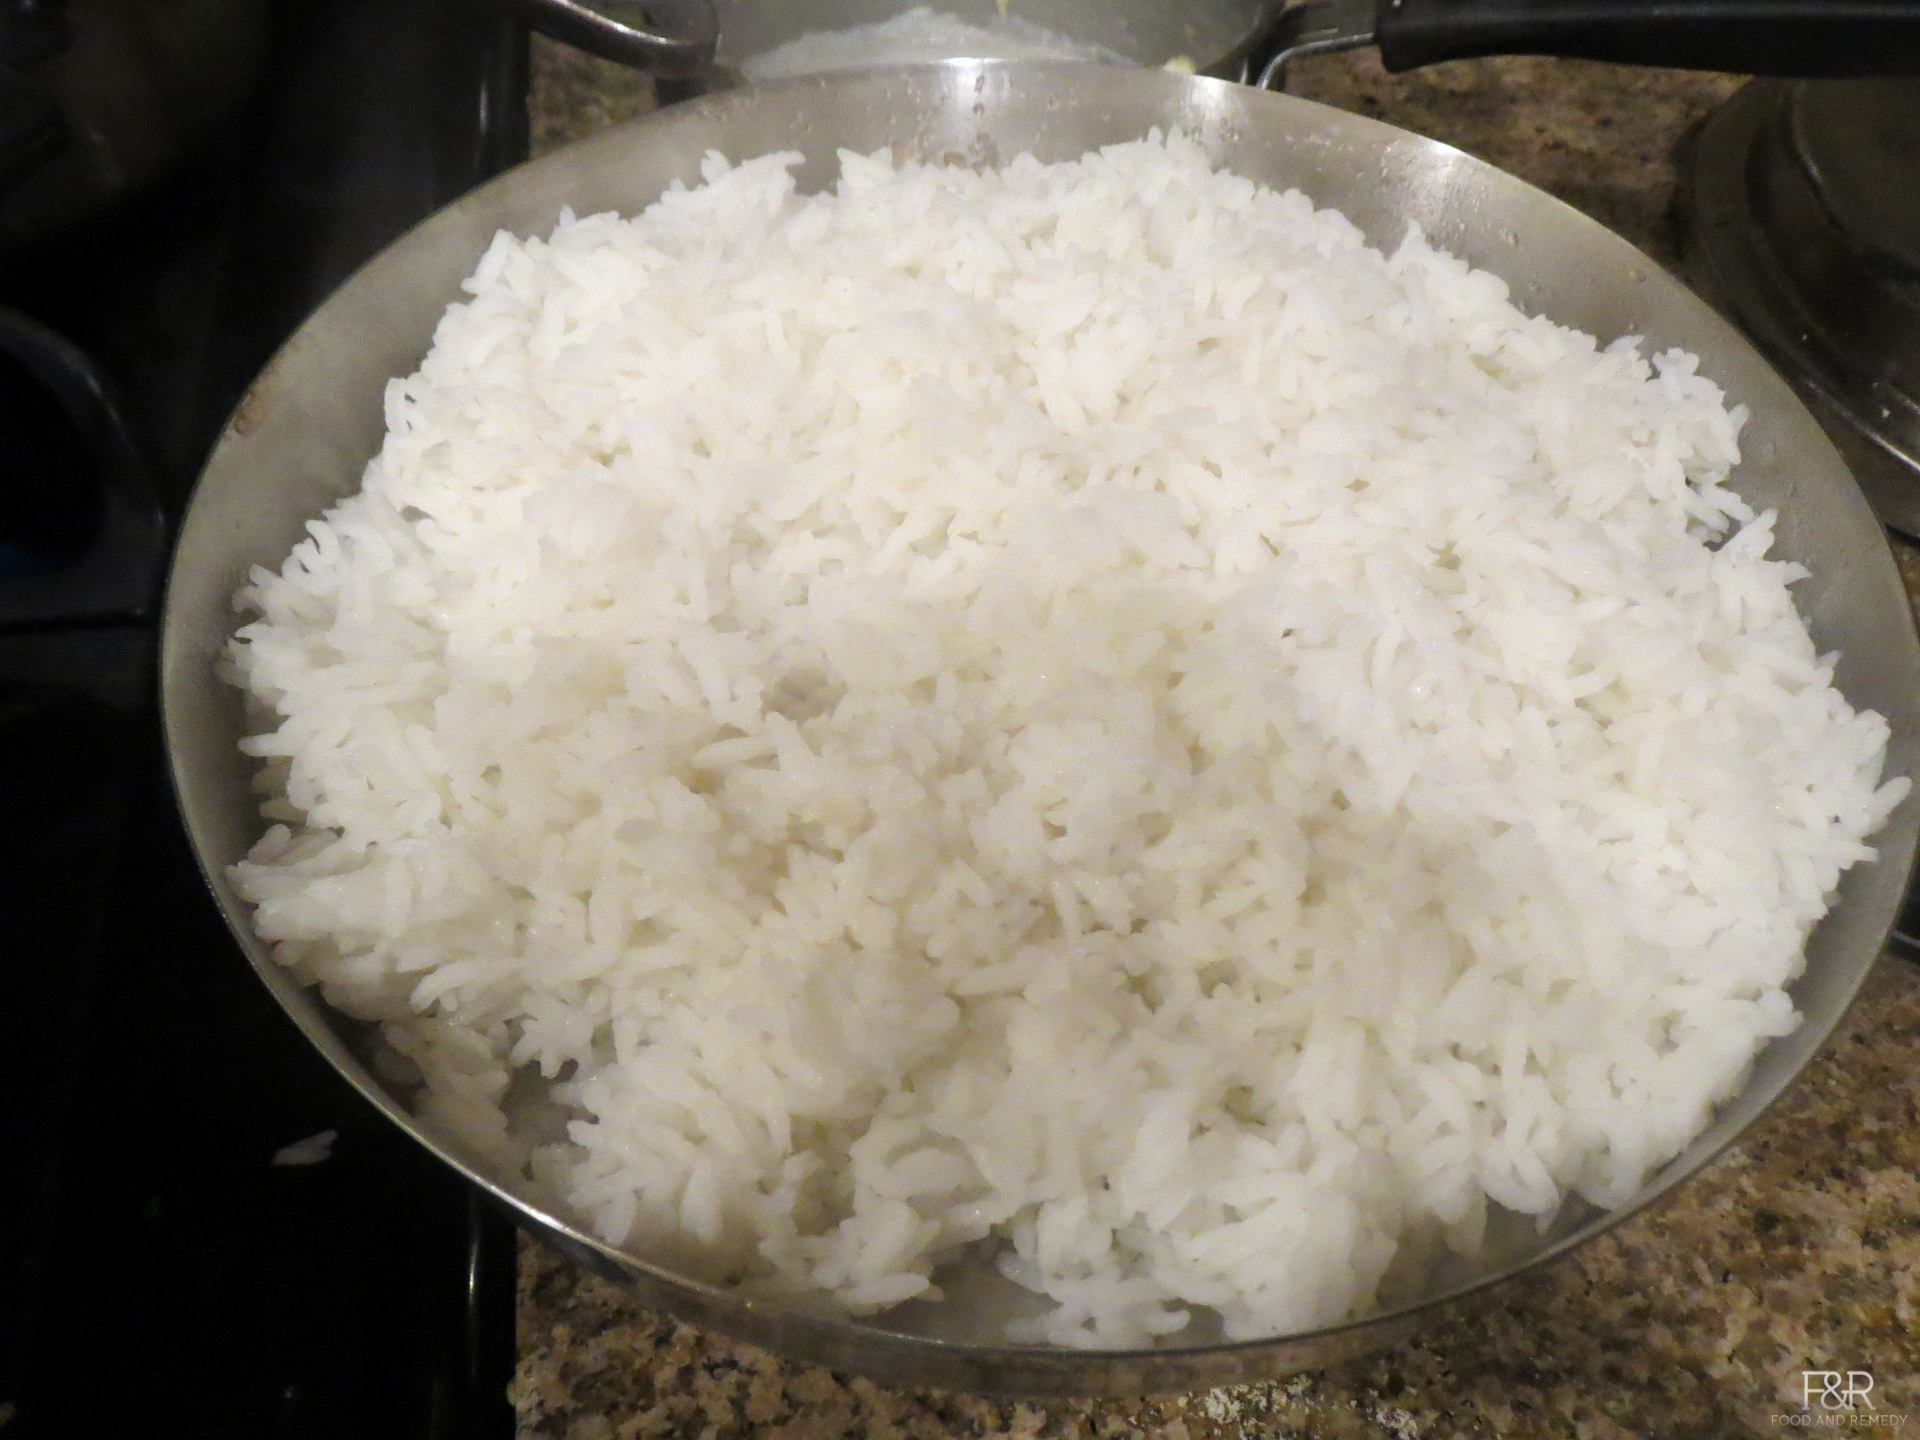rice: (278, 121, 1853, 1277)
